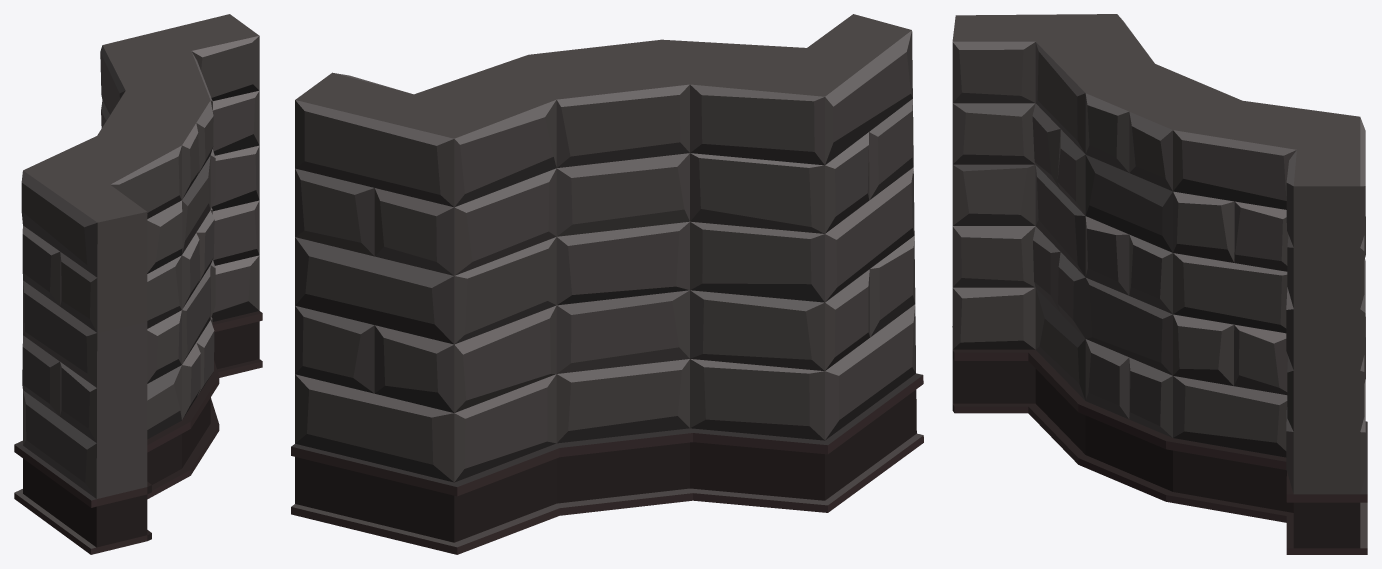
The model's file is Module_Stone_Curve_02.glb.
3 renders of one model, left to right at view 1: azimuth 30°, elevation 25°; view 2: azimuth 150°, elevation 25°; view 3: azimuth 270°, elevation 25°, orthographic. The views are drawn at different scales.
Visible parts, largest first — view 1: Module_Stone_Curve_02; view 2: Module_Stone_Curve_02; view 3: Module_Stone_Curve_02.
Part boxes in pixels (x1,y1,x2,y2): Module_Stone_Curve_02: [14, 14, 262, 554]; Module_Stone_Curve_02: [291, 14, 923, 554]; Module_Stone_Curve_02: [952, 14, 1367, 554].
Size of what is drawn, in the model's own units: 4.07 by 3.99 by 4.07.
Materials: 1 (1 with a texture image).
